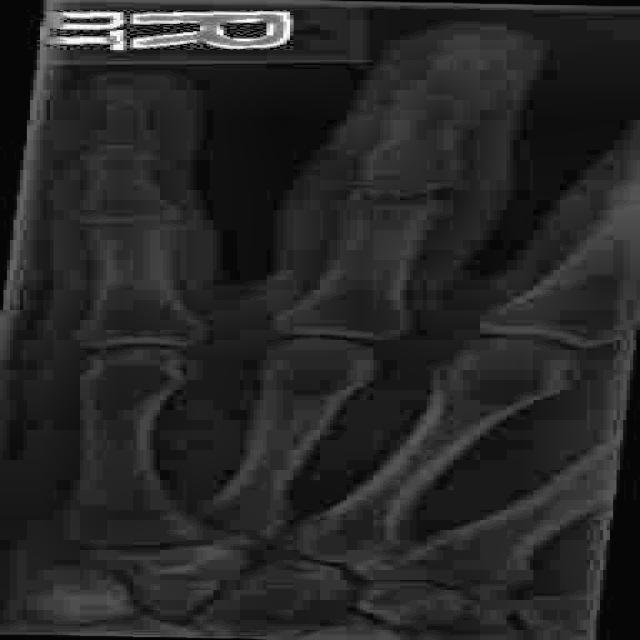fingers positive: (316, 165, 489, 231)
